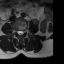CCS_normal: (19, 28, 21, 38)
LFS_normal: (23, 27, 26, 35)
LLS_normal: (21, 28, 23, 36)
RFS_normal: (14, 27, 17, 35)
RLS_normal: (17, 28, 19, 37)
